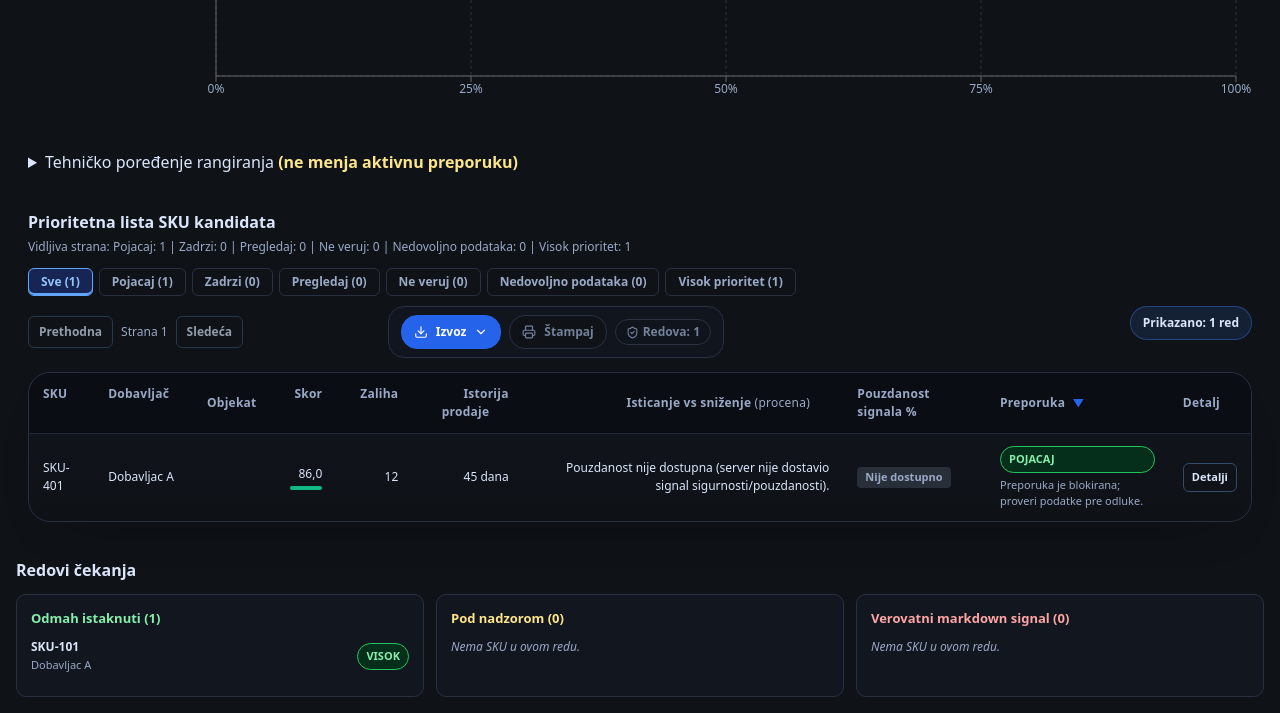
PreNivelacijaPriorityPage › keeps sparse-sales candidates in additional-check mode even when other scores look strong
The image size is (1280, 713).
(page scrolled)
Click the button "Detalji". click: (1210, 477)
box: [1183,463,1237,492]
(page scrolled)
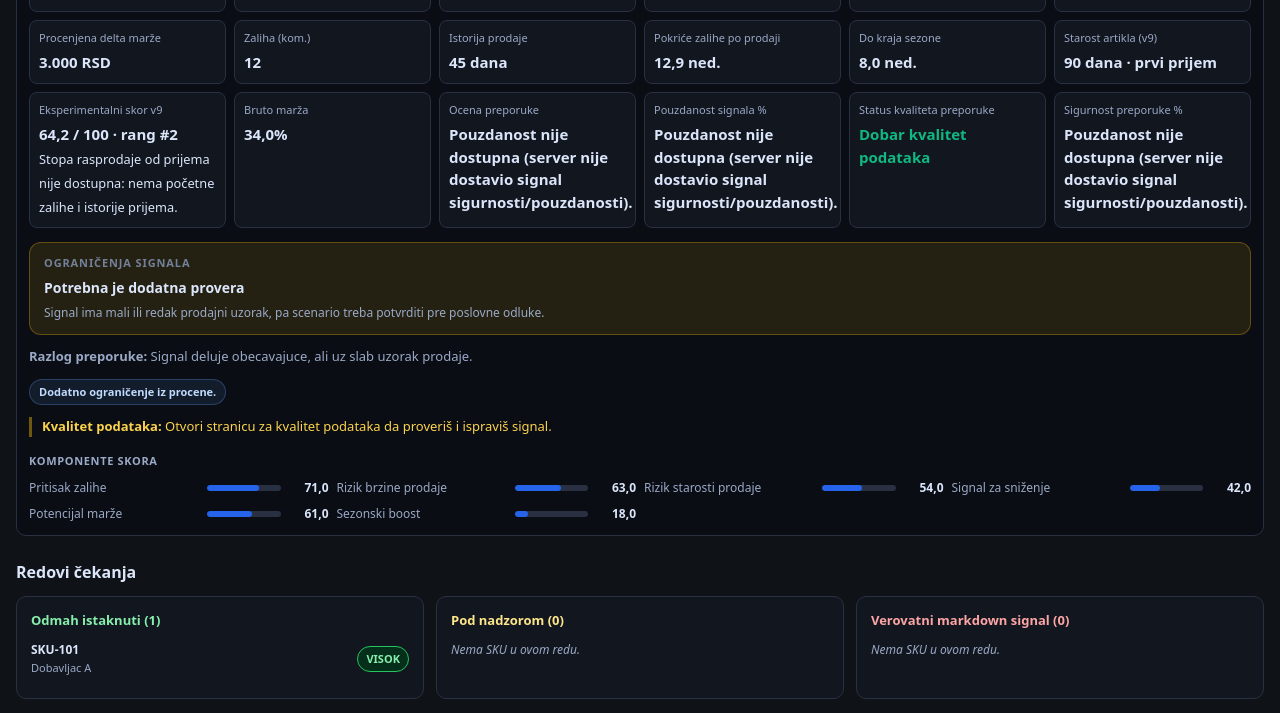
Expected: the text "Potrebna je dodatna provera" is shown, [44,278,244,297]
Expected: the text "Signal ima mali ili redak prodajni uzorak" is shown, [44,304,544,321]
